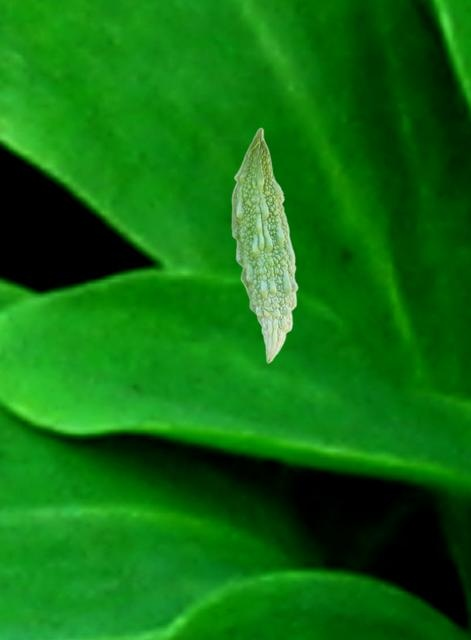ampalaya: (229, 127, 300, 363)
